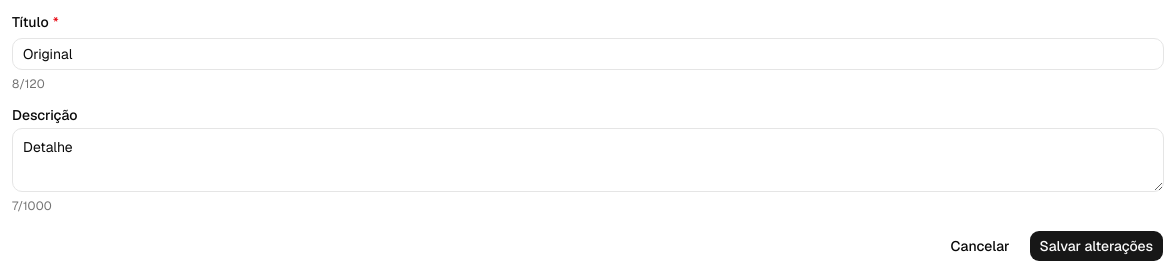
EditarTarefa › refetch com erro e dados presentes mantém o form e o texto digitado
In the field labelled "Título": (588, 54) [12, 38, 1164, 70], type " digitado"
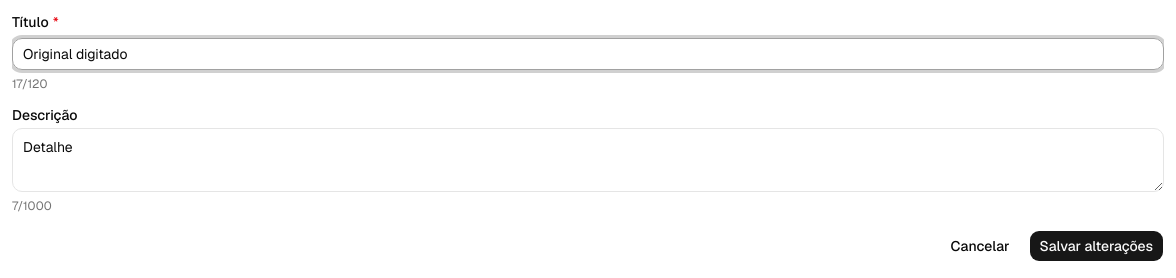
Check: the field labelled "Título" holds "Original digitado", box [12, 38, 1164, 70]
